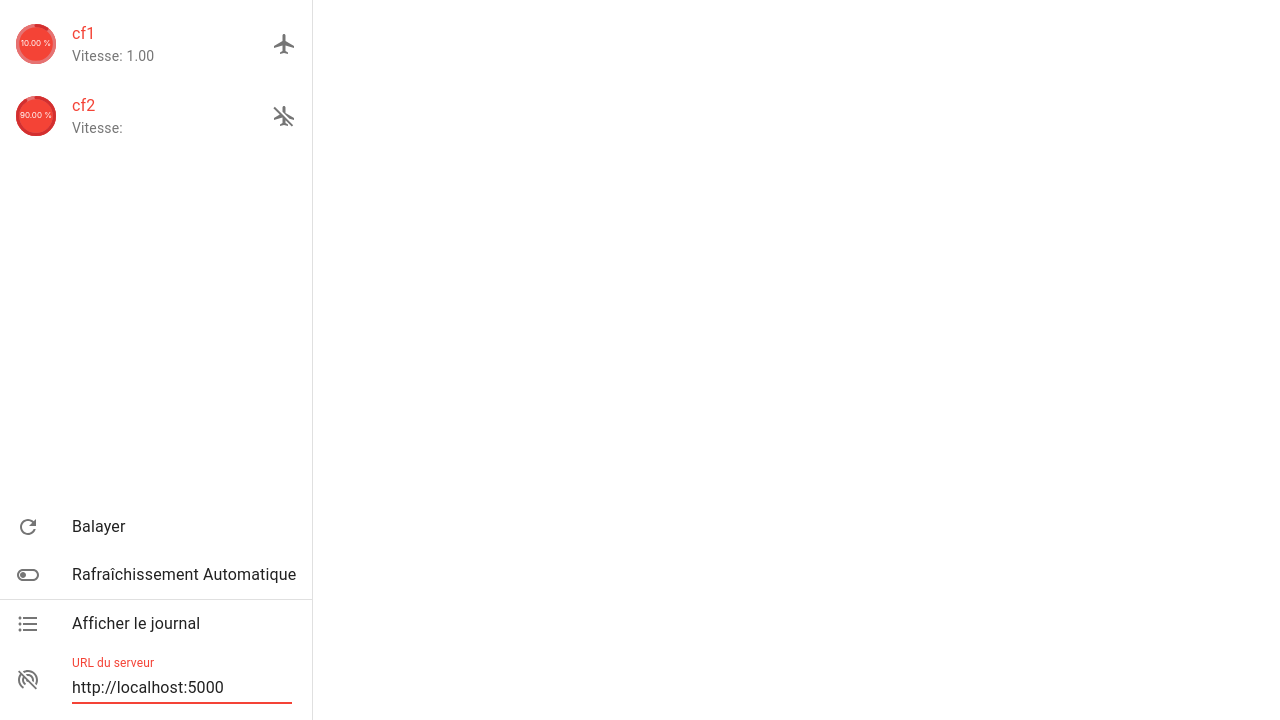
Test: CFDrawer › can open drone dialog
Click the text "cf1": (84, 34) [72,24,95,43]
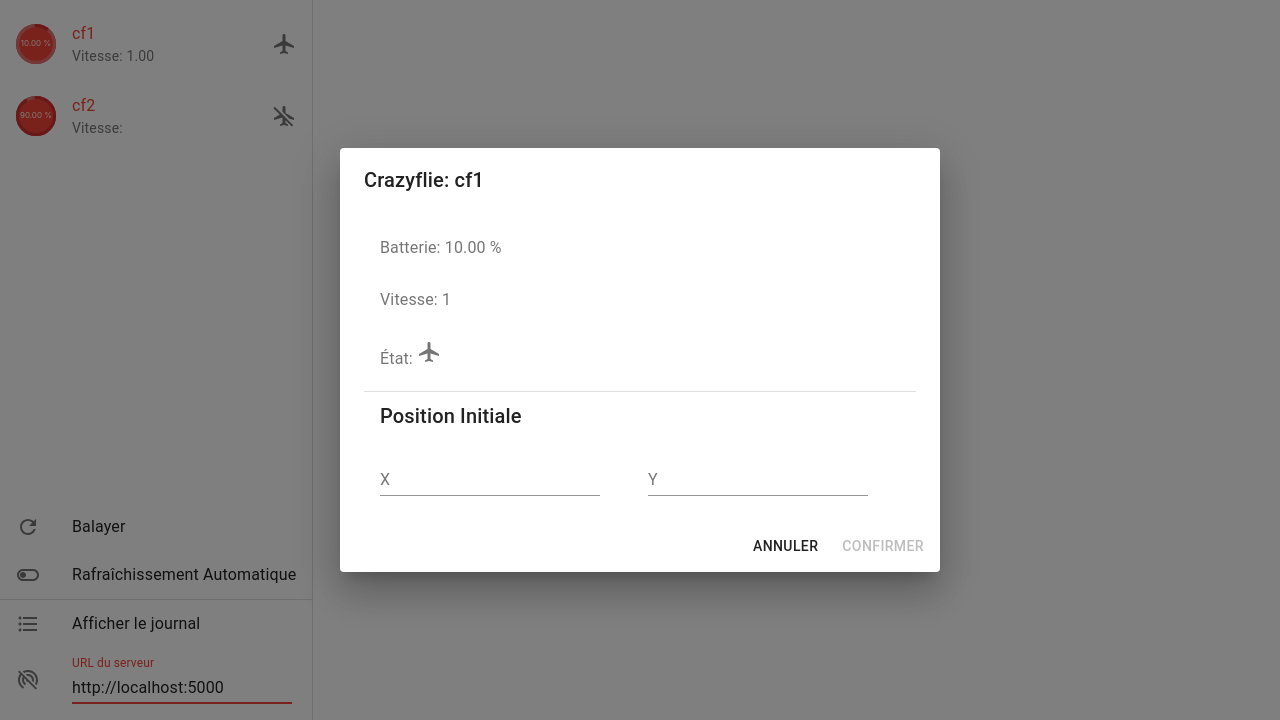
Expected: the dialog is shown, [340,148,940,572]
